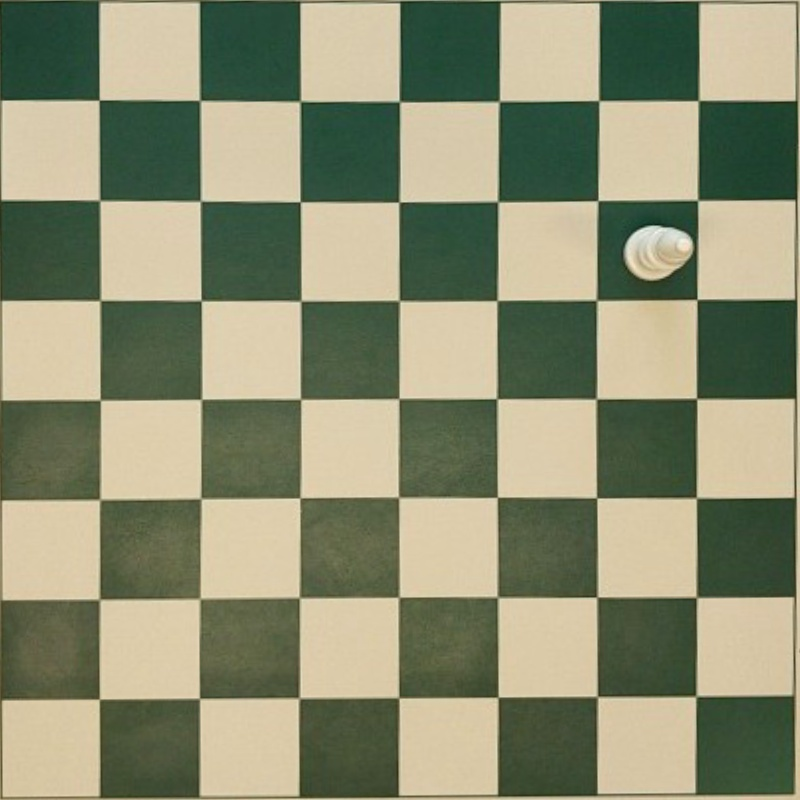white-bishop: (625, 224, 694, 281)
